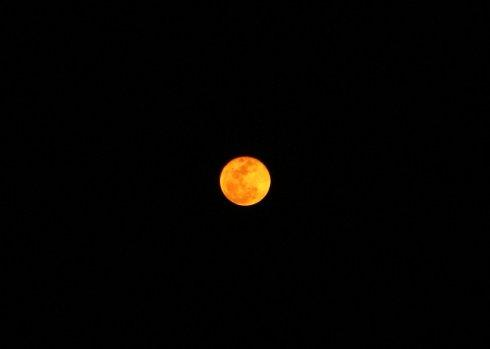moon: (220, 155, 270, 207)
